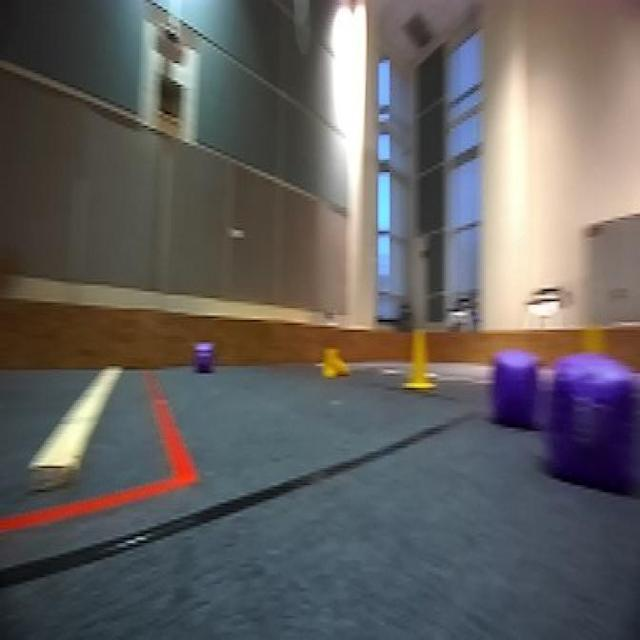frc_cone: (403, 325, 437, 393), (317, 344, 352, 383)
frc_cube: (543, 354, 639, 502), (492, 361, 538, 425), (192, 341, 214, 376)
